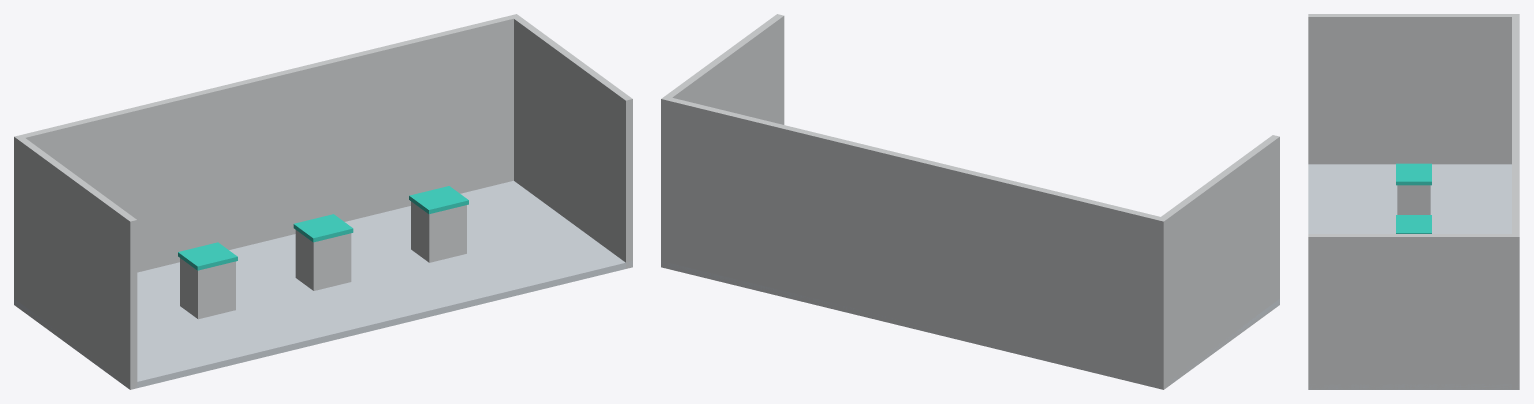
3 renders of one model, left to right at view 1: azimuth 30°, elevation 25°; view 2: azimuth 150°, elevation 25°; view 3: azimuth 270°, elevation 25°, orthographic. The views are drawn at different scales.
Parts seen in each view (by area): view 1: Exhibition Booth Concept; view 2: Exhibition Booth Concept; view 3: Exhibition Booth Concept.
Part boxes in pixels (left/top/right/bottom): Exhibition Booth Concept: left=14, top=14, right=632, bottom=389; Exhibition Booth Concept: left=661, top=14, right=1279, bottom=389; Exhibition Booth Concept: left=1308, top=14, right=1519, bottom=389.
Size of the model in its own units: 10 by 3.2 by 4.
